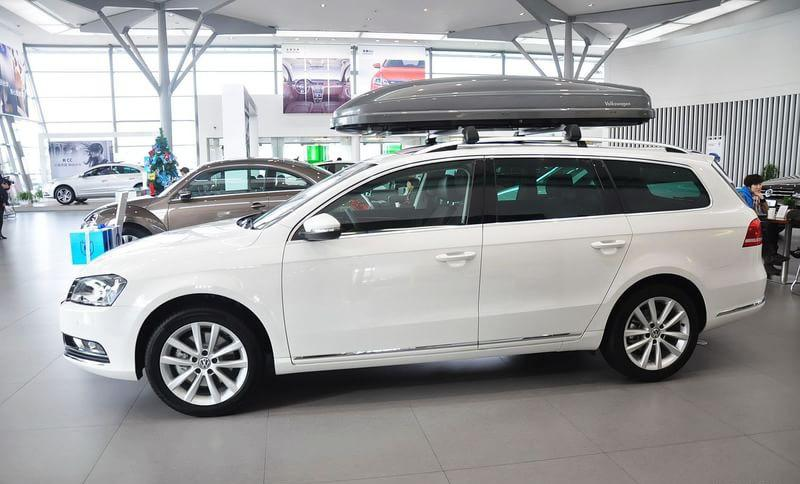Wagon: (57, 74, 769, 418)
